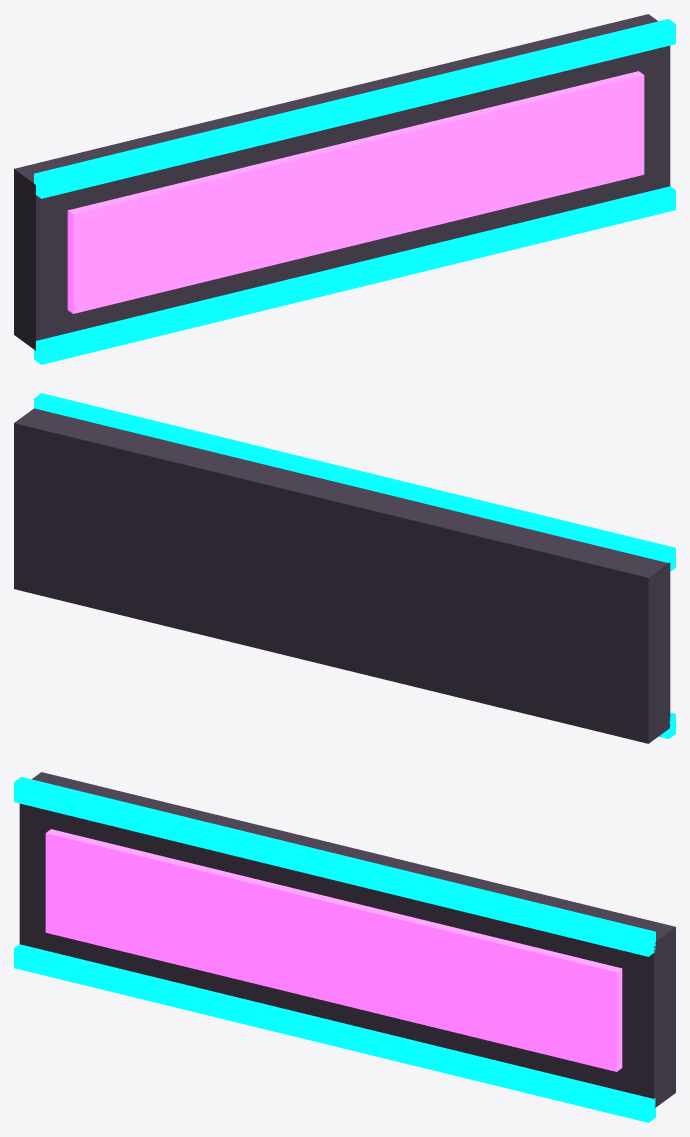
Rendered from SIGN_Neon_Horizontal_SM.glb.
3 views of the same model, one above another, from view 1: azimuth 30°, elevation 25°; view 2: azimuth 150°, elevation 25°; view 3: azimuth 330°, elevation 25° (orthographic).
Parts seen in each view (by area): view 1: SIGN_Neon_Horizontal_SM; view 2: SIGN_Neon_Horizontal_SM; view 3: SIGN_Neon_Horizontal_SM.
Part boxes in pixels (x1=…): SIGN_Neon_Horizontal_SM: x1=14, y1=14, x2=675, y2=364; SIGN_Neon_Horizontal_SM: x1=14, y1=393, x2=675, y2=743; SIGN_Neon_Horizontal_SM: x1=14, y1=772, x2=675, y2=1122.
Size of the model in its own units: 2 by 0.56 by 0.15.
